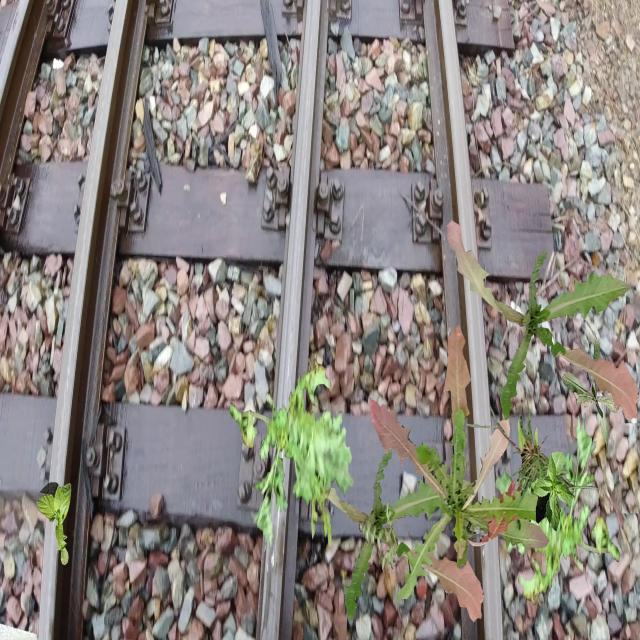Plant: (370, 324, 550, 602), (291, 420, 484, 622), (446, 220, 638, 422), (230, 357, 355, 553), (495, 412, 620, 608), (465, 393, 608, 512), (561, 339, 625, 451), (534, 452, 576, 532), (36, 482, 72, 566), (359, 500, 401, 572)
